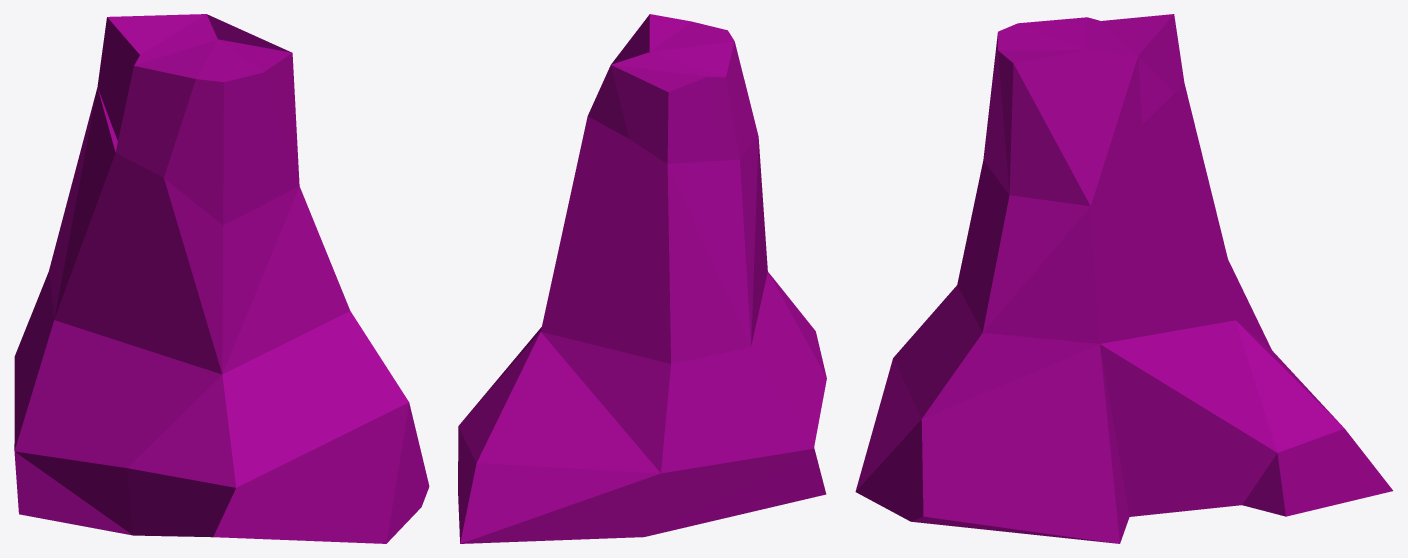
Rendered from Collider_Big_Rock_001.fbx.
3 renders of one model, left to right at view 1: azimuth 30°, elevation 25°; view 2: azimuth 150°, elevation 25°; view 3: azimuth 270°, elevation 25°, orthographic. The views are drawn at different scales.
Visible parts, largest first — view 1: Collider_Big_Rock_001; view 2: Collider_Big_Rock_001; view 3: Collider_Big_Rock_001.
Part boxes in pixels (x1,y1,x2,y2): Collider_Big_Rock_001: (14,14,429,543); Collider_Big_Rock_001: (458,14,826,543); Collider_Big_Rock_001: (855,14,1392,543).
Size of the model in its own units: 13.24 by 15.3 by 17.63.
